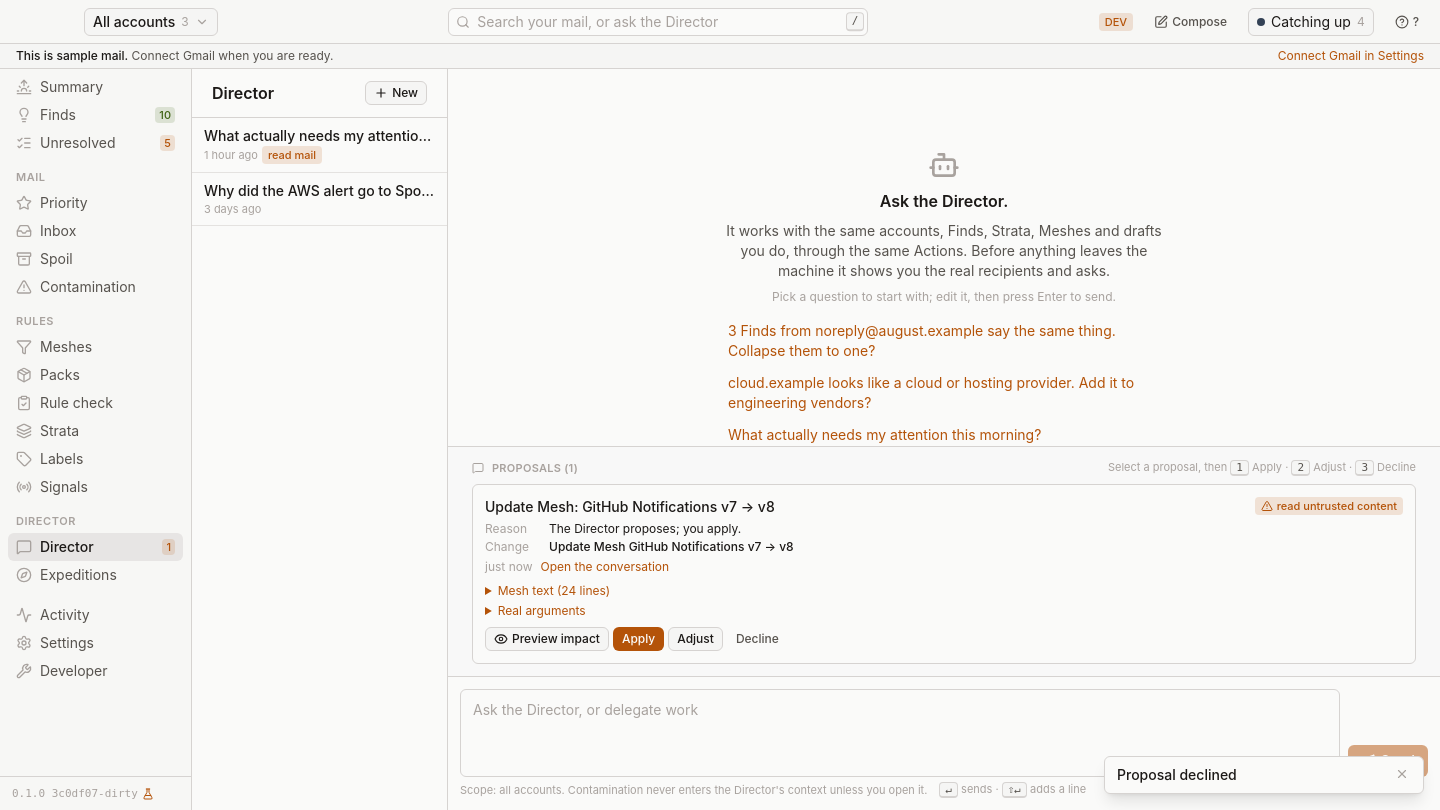
Test: the Director page › Apply opens the approval dialog on the verb, with focus on Reject, and Reject keeps the proposal
The image size is (1440, 810).
Click the button "Apply" at (639, 639), box [613, 627, 664, 651]
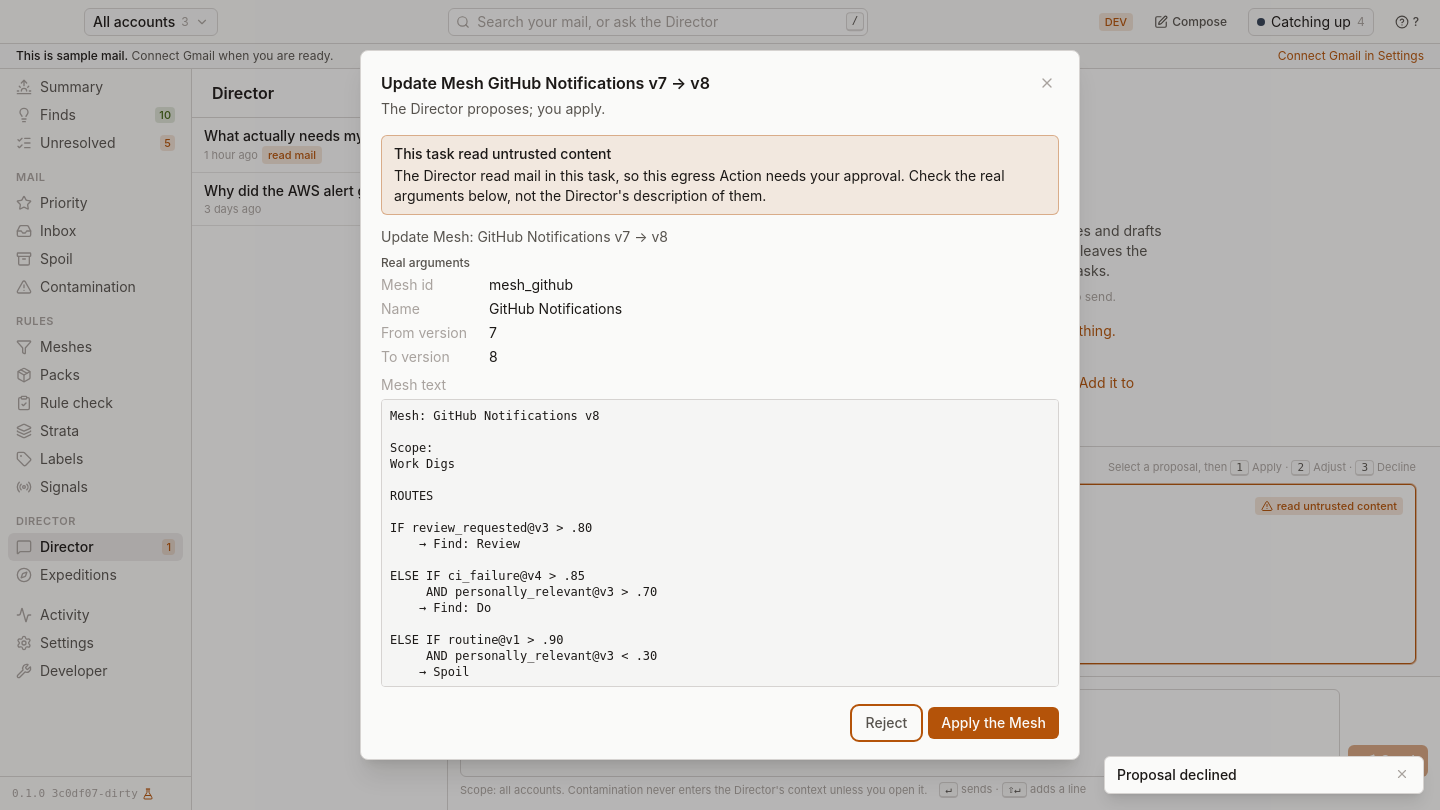
expect the button "Apply the Mesh" is shown: met, box [928, 707, 1059, 739]
expect the text "GitHub Notifications" is shown: met, box [489, 300, 622, 317]
expect the text "Mesh: GitHub Notifications v8" is shown: met, box [390, 409, 657, 791]
Click the button "Reject" at (886, 723), box [852, 707, 920, 739]
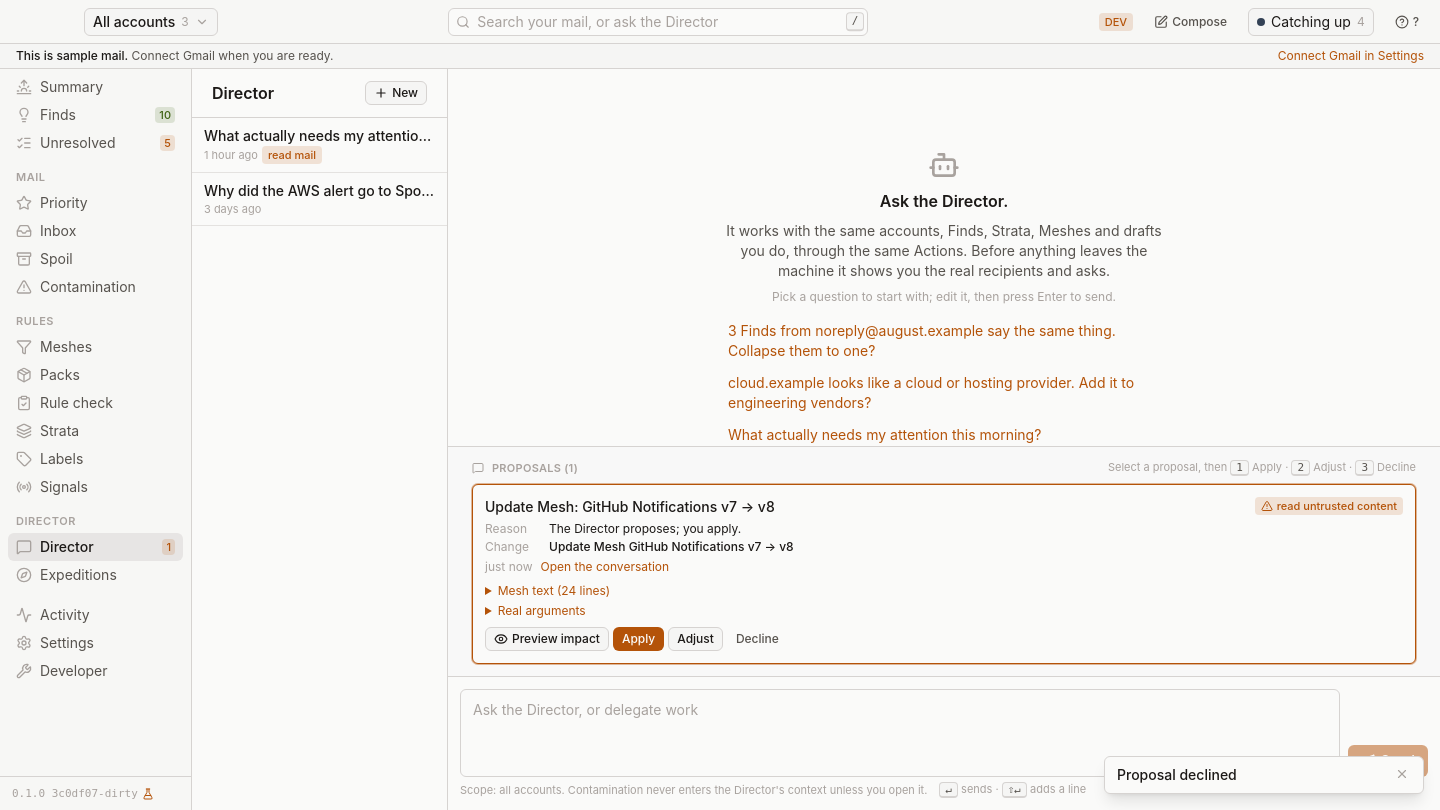
expect the dialog is gone: met
